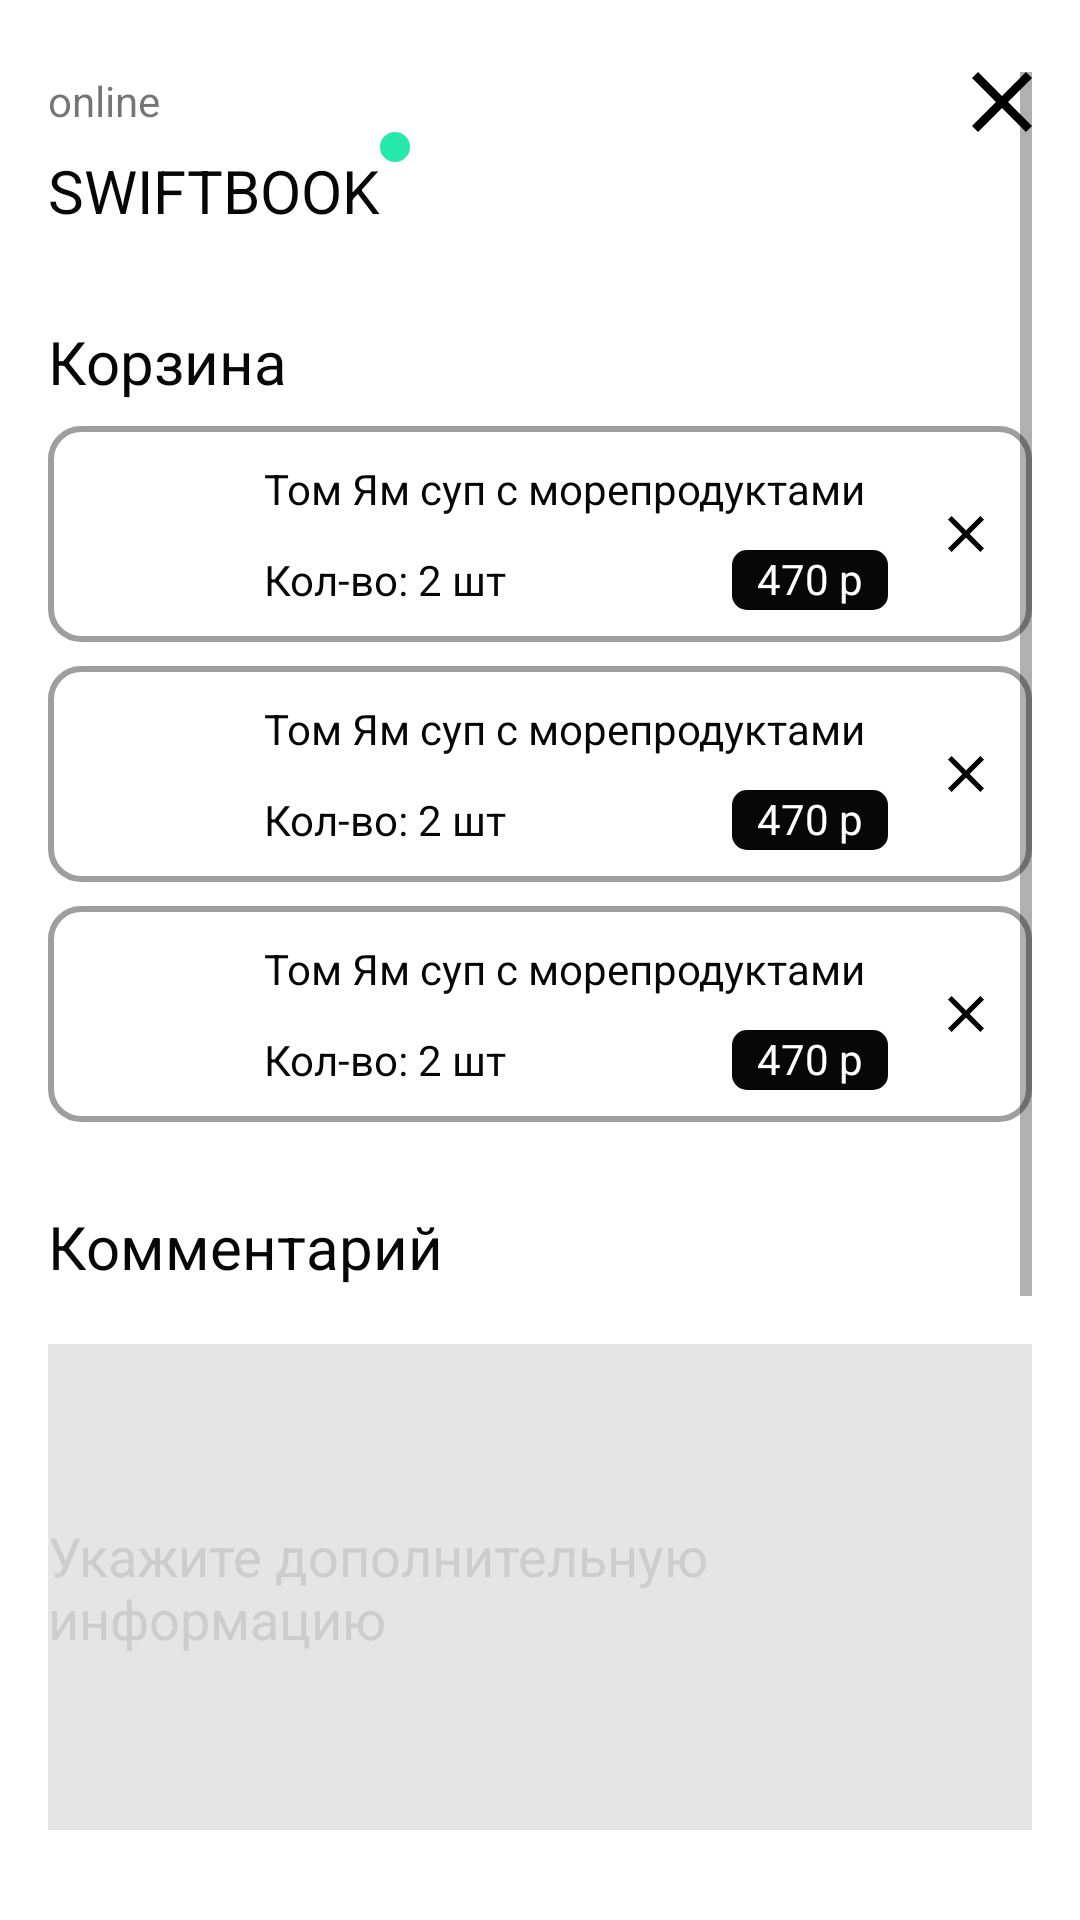

Icon click points for this 1080×1920 phone screenshot, format (x=x, y=y):
close: (x=1002, y=102), (x=966, y=534), (x=966, y=774), (x=966, y=1014)
